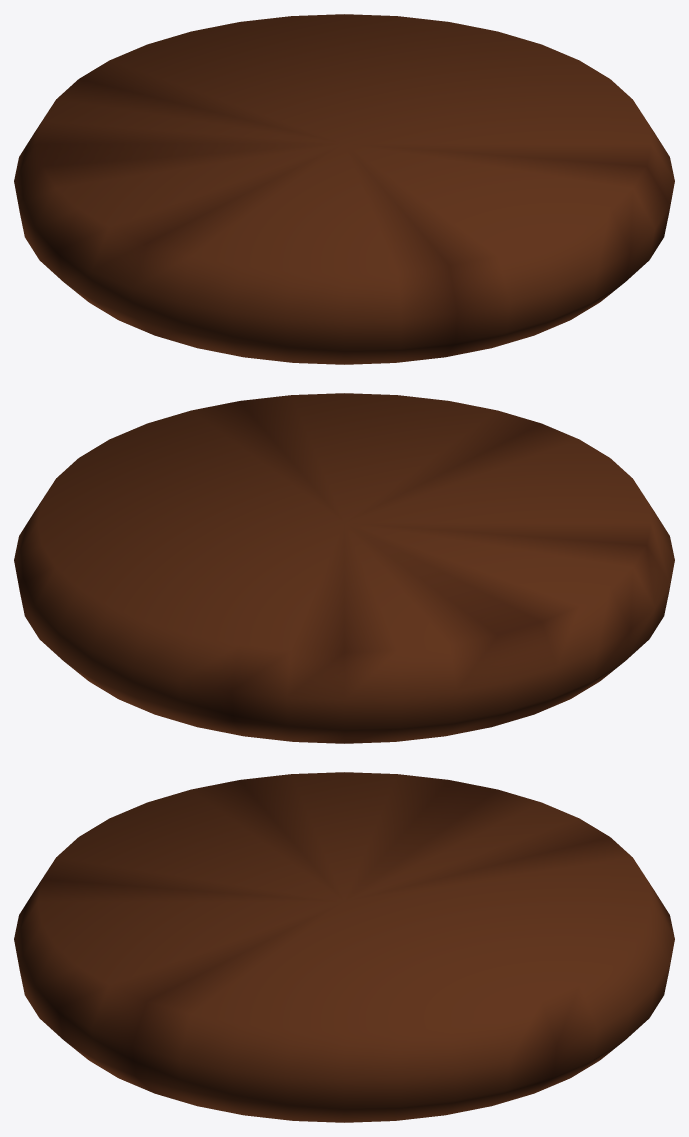
Rendered from patty.glb.
The picture shows the model from 3 angles, top to bottom: view 1: azimuth 30°, elevation 25°; view 2: azimuth 150°, elevation 25°; view 3: azimuth 270°, elevation 25°; orthographic projection.
Parts seen in each view (by area): view 1: patty; view 2: patty; view 3: patty.
Boxes of the visible parts, x1,y1,x2,y2 form: patty: (14,14,674,364); patty: (14,393,674,743); patty: (14,772,674,1122).
Bounding box in the file's own units: 0.112 × 0.018 × 0.112.
